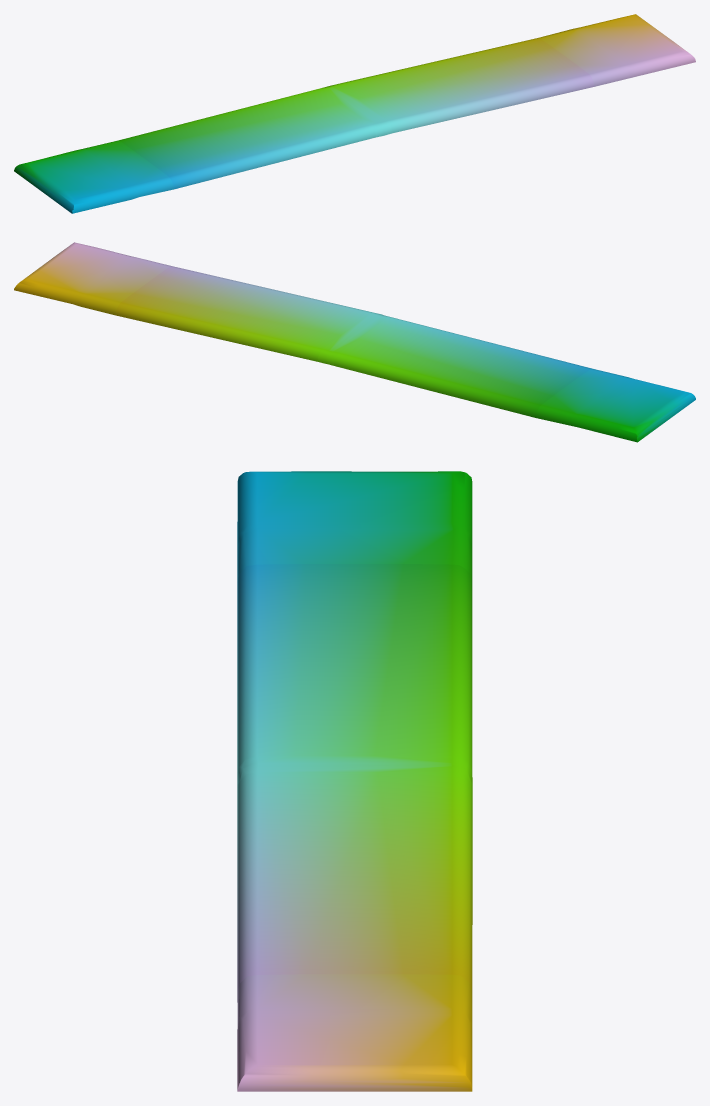
Rendered from SM_ROAD_37_5_0_37_buffer.FBX.
3 views of the same model, one above another, from view 1: azimuth 30°, elevation 25°; view 2: azimuth 150°, elevation 25°; view 3: azimuth 270°, elevation 25° (orthographic). The views are drawn at different scales.
Parts seen in each view (by area): view 1: SM_ROAD_37_5_0_37_buffer; view 2: SM_ROAD_37_5_0_37_buffer; view 3: SM_ROAD_37_5_0_37_buffer.
Part boxes in pixels (x1,y1,x2,y2): SM_ROAD_37_5_0_37_buffer: [14, 14, 695, 213]; SM_ROAD_37_5_0_37_buffer: [14, 242, 695, 442]; SM_ROAD_37_5_0_37_buffer: [237, 471, 472, 1091].
Size of the model in its own units: 3705 by 606 by 68.46.
